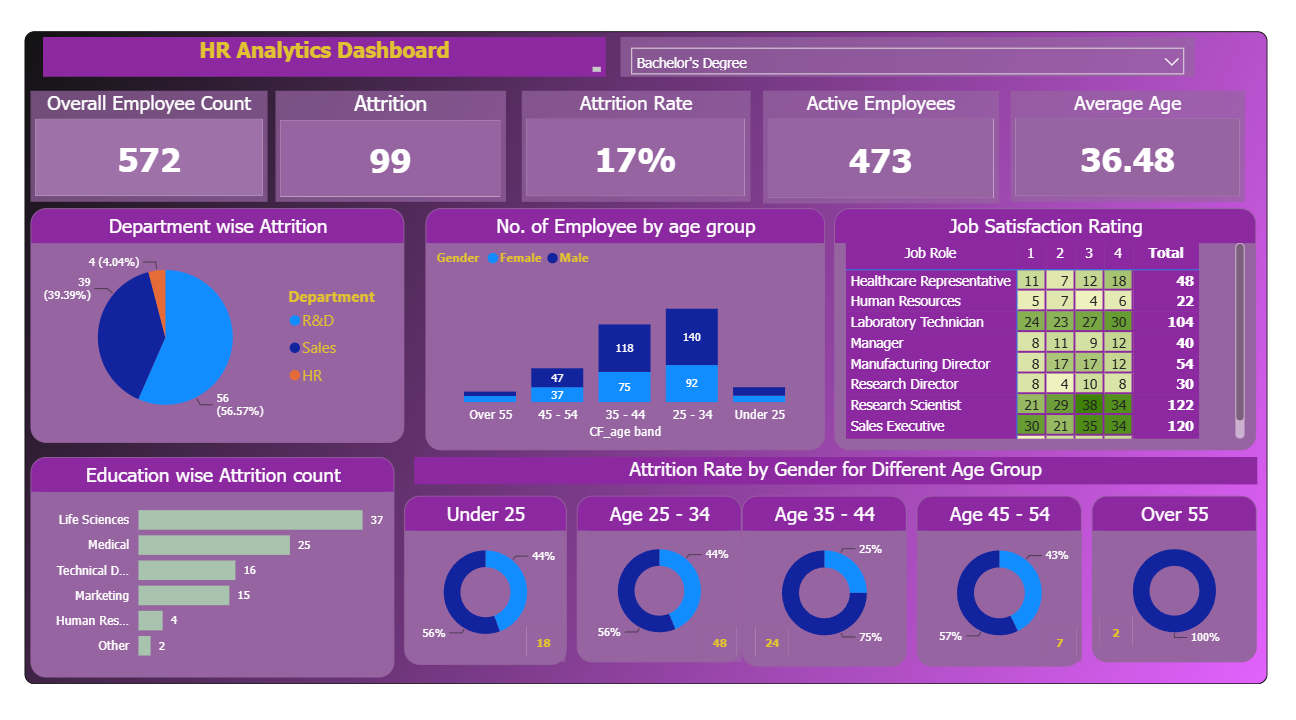

This screenshot's page, from the dashboard's own definition file:
{"tool":"powerbi","page":{"name":"Page 1","canvas":[1280,720],"ordinal":0},"visuals":[{"type":"cardVisual","title":"Attrition","fields":{"Data":["Sum(HR data.Attrition Count)"]},"box":[282.7,100.2,222.3,107],"z":0},{"type":"cardVisual","title":"Active Employees","fields":{"Data":["HR data.Active Employees"]},"box":[753.3,100.2,227.8,108.4],"z":1000},{"type":"cardVisual","title":"Attrition Rate","fields":{"Data":["HR data.Attrition Rate"]},"box":[520.1,100.2,220.9,107],"z":2000},{"type":"cardVisual","title":"Overall Employee Count","fields":{"Data":["Sum(HR data.Employee Count)"]},"box":[45.3,100.2,229.2,107],"z":3000},{"type":"cardVisual","title":"Average Age","fields":{"Data":["Avg(HR data.Age)"]},"box":[992.1,100.2,226.4,107],"z":4000},{"type":"pieChart","title":"Department wise Attrition","fields":{"Category":["HR data.Department"],"Y":["Sum(HR data.Attrition Count)"]},"box":[45.3,214.1,360.9,226.4],"z":5000},{"type":"columnChart","title":"No. of Employee by age group","fields":{"Category":["HR data.CF_age band"],"Y":["Sum(HR data.Employee Count)"],"Series":["HR data.Gender"]},"box":[426.8,214.1,385.6,233.3],"z":6000},{"type":"pivotTable","title":"Job Satisfaction Rating","fields":{"Rows":["HR data.Job Role"],"Columns":["HR data.Job Satisfaction"],"Values":["Sum(HR data.Employee Count)"]},"box":[822,214.1,407.5,233.3],"z":7000},{"type":"barChart","title":"Education wise Attrition count","fields":{"Category":["HR data.Education Field"],"Y":["Sum(HR data.Attrition Count)"]},"box":[45.3,454.2,351.3,212.7],"z":8000},{"type":"donutChart","title":"Under 25","fields":{"Y":["Sum(HR data.Attrition Count)"],"Category":["HR data.Gender"],"Series":["HR data.CF_age band"]},"box":[406.2,491.3,156.4,163.3],"z":9000},{"type":"textbox","title":"Attrition Rate by Gender for Different Age Group","box":[415.8,454.2,813.7,26.1],"z":10000},{"type":"donutChart","title":"Age 25 - 34","fields":{"Y":["Sum(HR data.Attrition Count)"],"Category":["HR data.Gender"],"Series":["HR data.CF_age band"]},"box":[573.6,491.3,159.2,160.5],"z":11000},{"type":"donutChart","title":"Age 35 - 44","fields":{"Y":["Sum(HR data.Attrition Count)"],"Category":["HR data.Gender"],"Series":["HR data.CF_age band"]},"box":[732.8,491.3,159.2,164.7],"z":12000},{"type":"donutChart","title":"Age 45 - 54","fields":{"Y":["Sum(HR data.Attrition Count)"],"Category":["HR data.Gender"],"Series":["HR data.CF_age band"]},"box":[901.5,491.3,159.2,164.7],"z":13000},{"type":"donutChart","title":"Over 55","fields":{"Y":["Sum(HR data.Attrition Count)"],"Category":["HR data.Gender"],"Series":["HR data.CF_age band"]},"box":[1070.3,491.3,159.2,160.5],"z":14000},{"type":"cardVisual","title":"Average Age","fields":{"Data":["Sum(HR data.Attrition Count)"]},"box":[520.1,613.4,42.5,38.4],"z":15000},{"type":"cardVisual","title":"Average Age","fields":{"Data":["Sum(HR data.Attrition Count)"]},"box":[690.2,613.4,42.5,38.4],"z":16000},{"type":"cardVisual","title":"Average Age","fields":{"Data":["Sum(HR data.Attrition Count)"]},"box":[1018.2,613.4,42.5,38.4],"z":17000},{"type":"cardVisual","title":"Average Age","fields":{"Data":["Sum(HR data.Attrition Count)"]},"box":[741,613.4,42.5,38.4],"z":18000},{"type":"cardVisual","title":"Average Age","fields":{"Data":["Sum(HR data.Attrition Count)"]},"box":[1073.1,603.8,42.5,38.4],"z":19000},{"type":"textbox","title":"HR Analytics Dashboard","box":[57.6,48,543.4,38.4],"z":20000},{"type":"slicer","title":"Select Degree From Slicer","fields":{"Values":["HR data.Education"]},"box":[614.8,48,554.4,38.4],"z":21000}]}

Visuals, with their boxes in screenshot pixels (x1, y1, x2, y2), scaled from the page's 1280x720 canvas onto the 1296x720 screenshot:
"Attrition" cardVisual: 286:100:511:207
"Active Employees" cardVisual: 763:100:993:209
"Attrition Rate" cardVisual: 527:100:750:207
"Overall Employee Count" cardVisual: 46:100:278:207
"Average Age" cardVisual: 1005:100:1234:207
"Department wise Attrition" pieChart: 46:214:411:440
"No. of Employee by age group" columnChart: 432:214:823:447
"Job Satisfaction Rating" pivotTable: 832:214:1245:447
"Education wise Attrition count" barChart: 46:454:402:667
"Under 25" donutChart: 411:491:570:655
"Attrition Rate by Gender for Different Age Group" textbox: 421:454:1245:480
"Age 25 - 34" donutChart: 581:491:742:652
"Age 35 - 44" donutChart: 742:491:903:656
"Age 45 - 54" donutChart: 913:491:1074:656
"Over 55" donutChart: 1084:491:1245:652
"Average Age" cardVisual: 527:613:570:652
"Average Age" cardVisual: 699:613:742:652
"Average Age" cardVisual: 1031:613:1074:652
"Average Age" cardVisual: 750:613:793:652
"Average Age" cardVisual: 1087:604:1130:642
"HR Analytics Dashboard" textbox: 58:48:609:86
"Select Degree From Slicer" slicer: 622:48:1184:86
